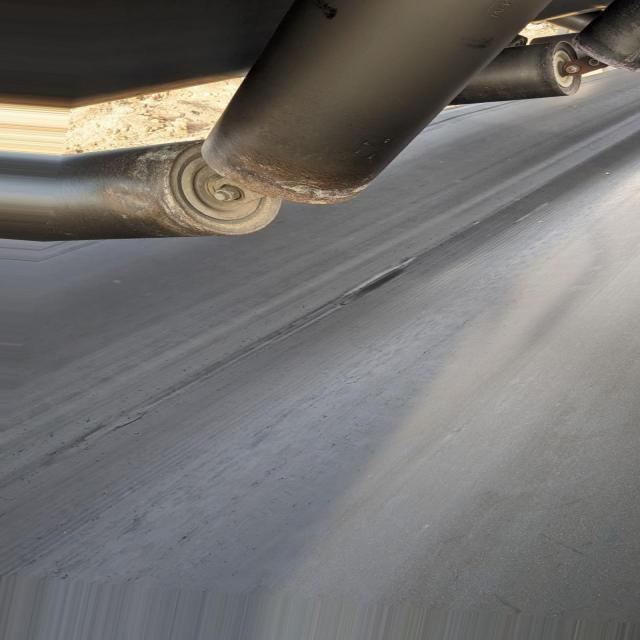Roller: (207, 0, 542, 208), (73, 140, 282, 238), (451, 35, 582, 98), (573, 5, 640, 73)
impact damage: (336, 257, 414, 305)
